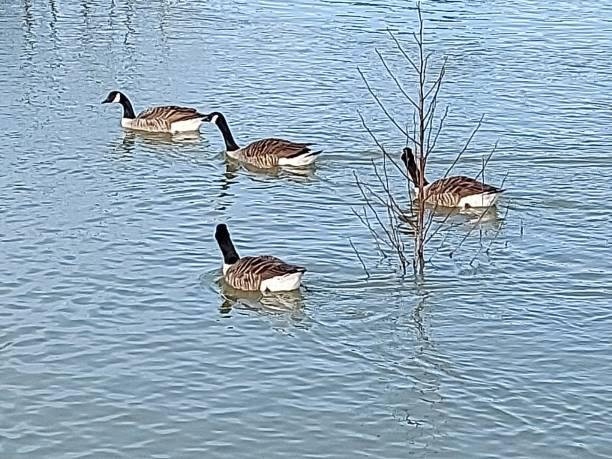Canadian-Goose: (202, 109, 319, 167), (400, 146, 503, 211), (214, 223, 305, 294), (101, 90, 203, 131)
